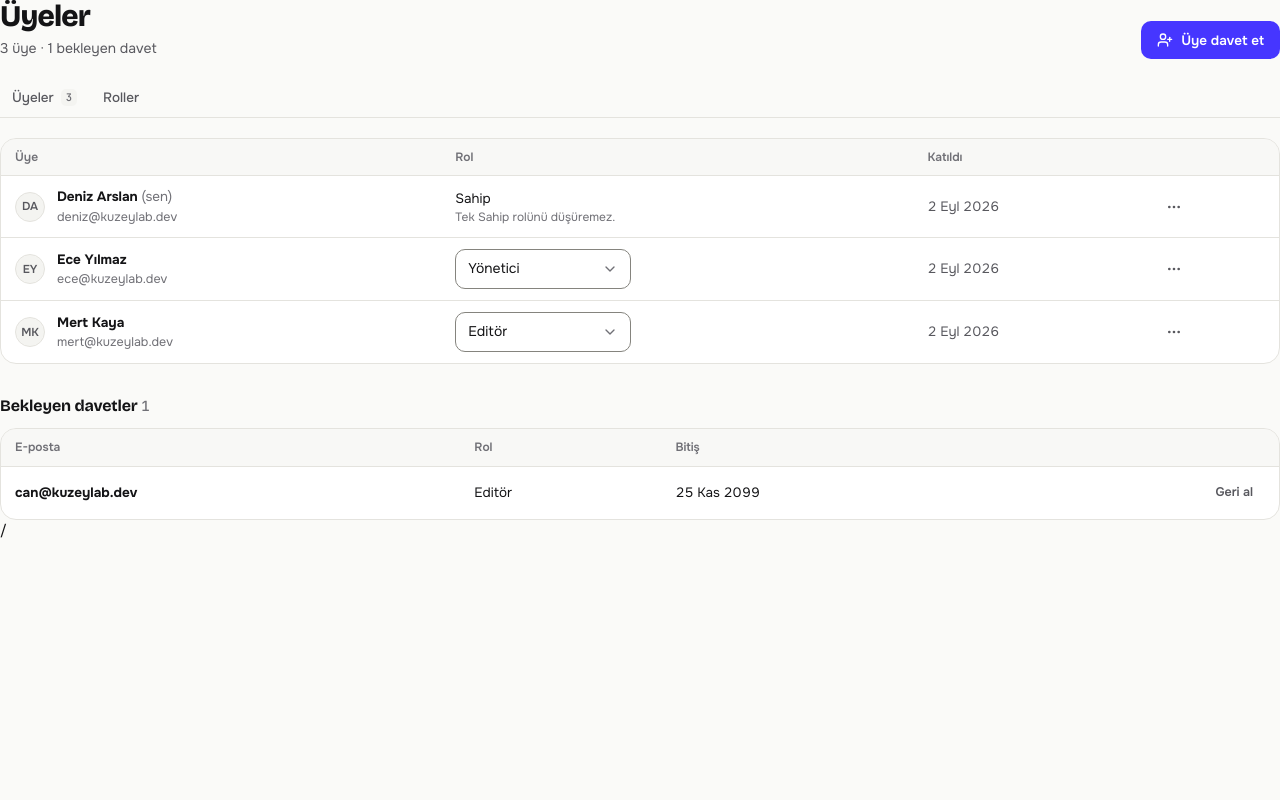
Test case: MembersPage › changes a role after the confirmation
Click the button with aria-label "Mert Kaya rolü" at (543, 332), box [455,312,631,352]
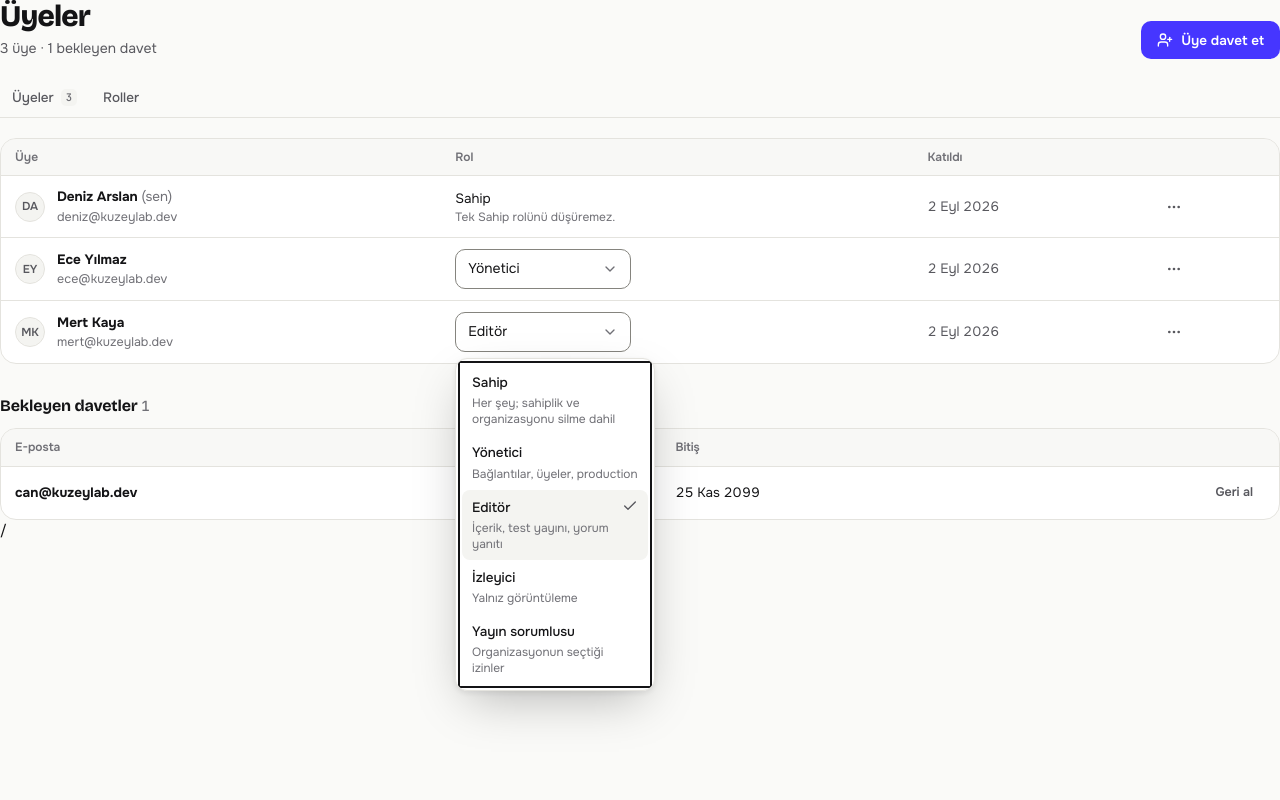
Click the option "İzleyici Yalnız görüntüleme" at (525, 587), box [472,569,578,606]
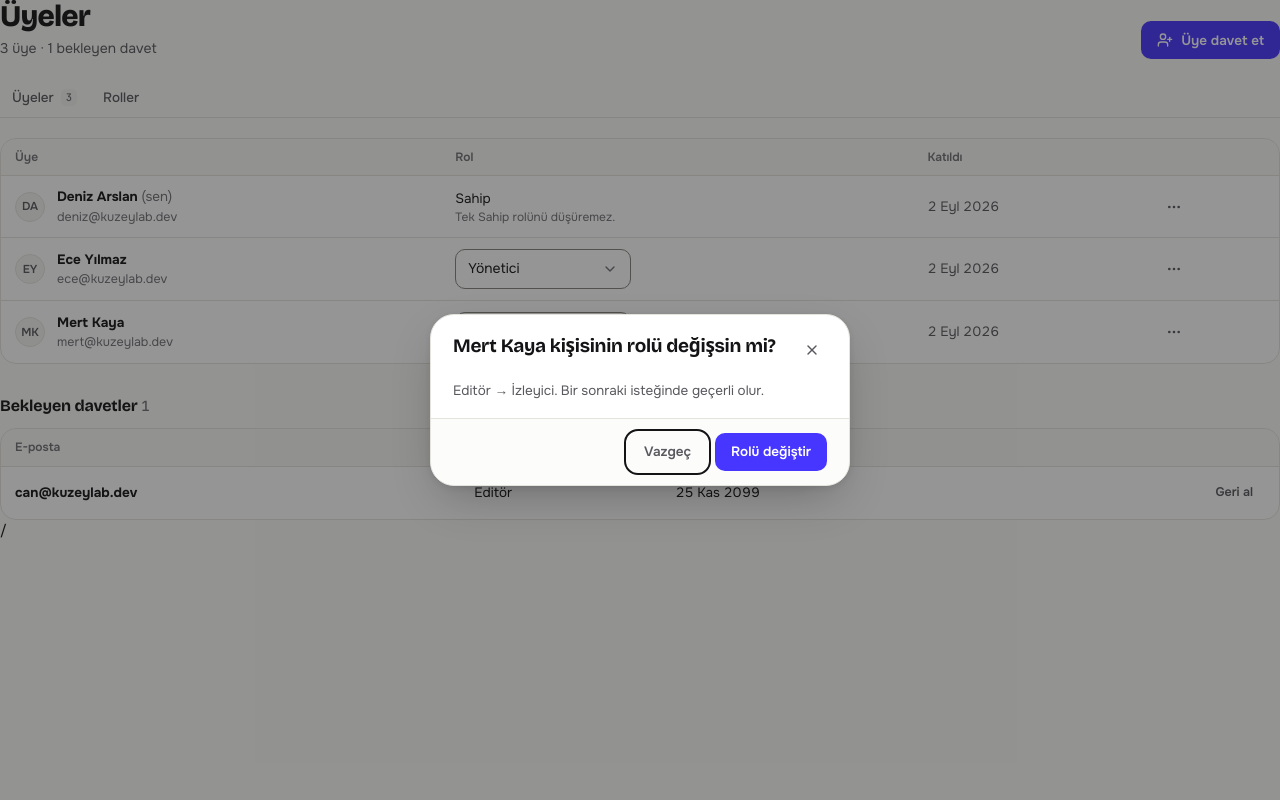
Click the button "Rolü değiştir" at (771, 452), box [715,433,827,471]
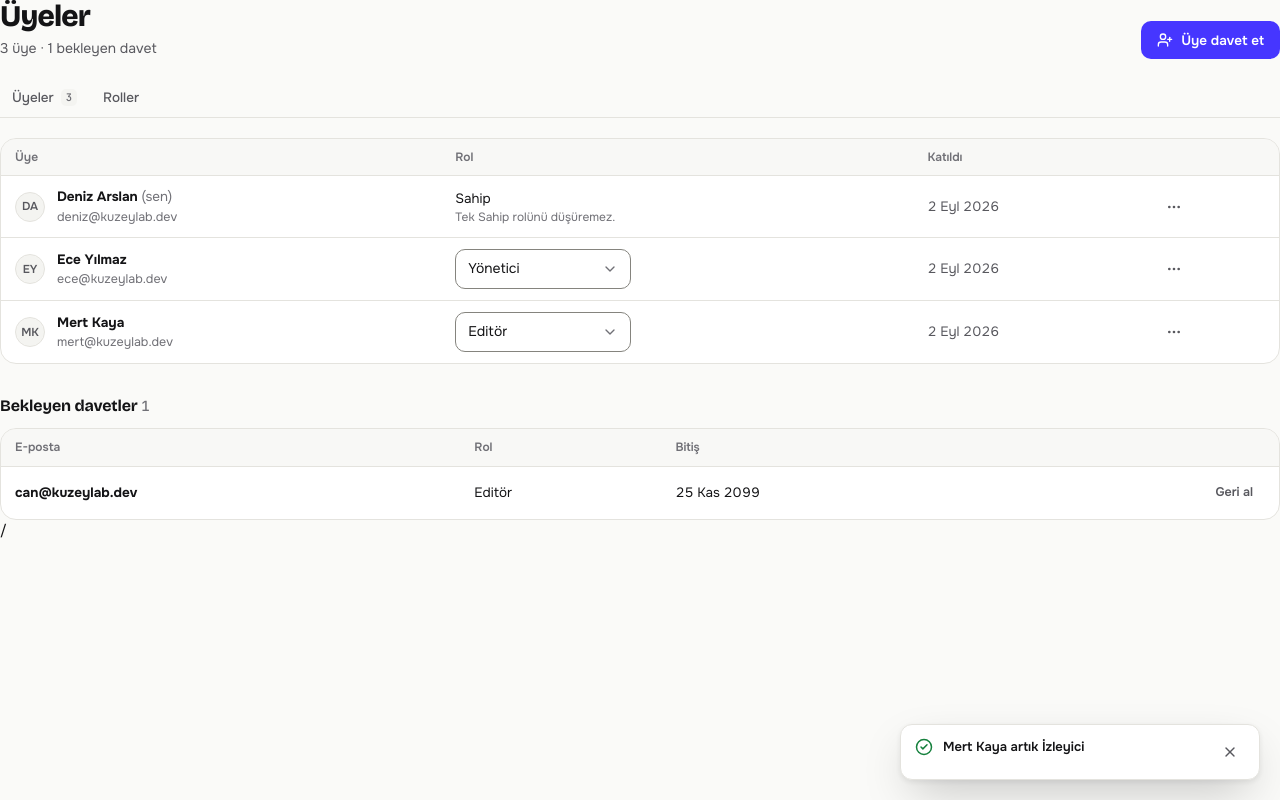
Check: the text "Mert Kaya artık İzleyici" is shown, box [943,738,1084,755]
